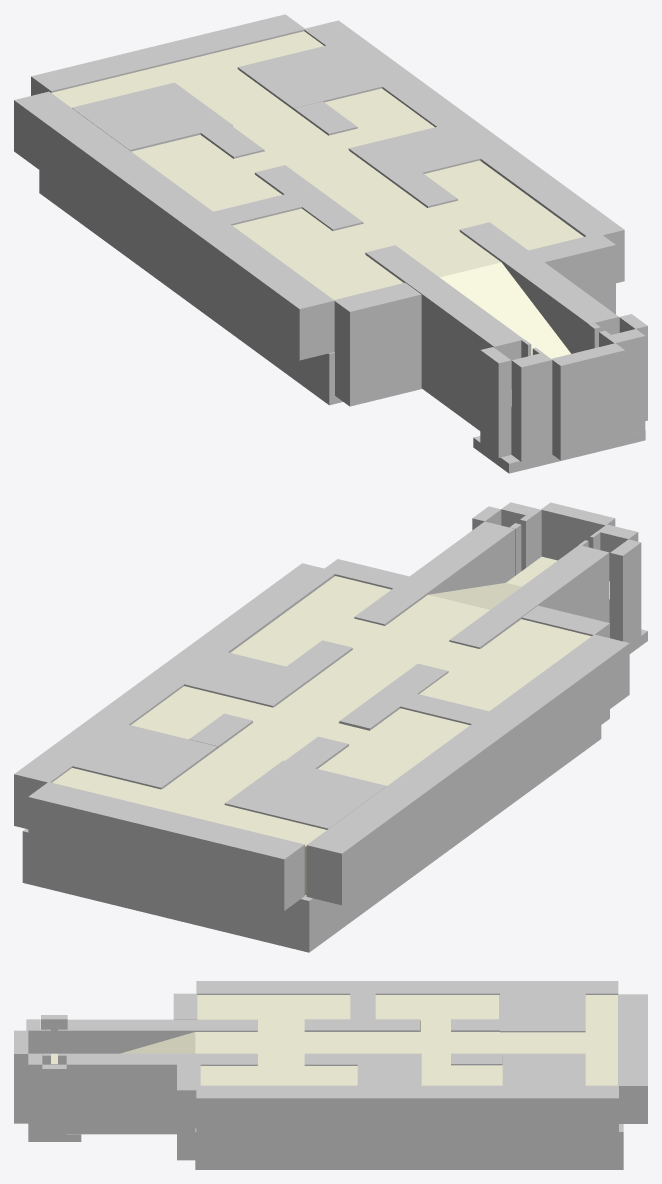
File: museum.fbx
3 renders of one model, top to bottom at view 1: azimuth 30°, elevation 25°; view 2: azimuth 150°, elevation 25°; view 3: azimuth 270°, elevation 25°, orthographic. The views are drawn at different scales.
Parts seen in each view (by area): view 1: Plane, Cube, Cube.001, Cube.012, Cube.022, Cube.024, Cube.017, Cube.011, Cube.003, Cube.002, Cube.004, Cube.016 (+11 smaller); view 2: Plane, Cube, Cube.002, Cube.024, Cube.001, Cube.012, Cube.011, Cube.003, Cube.004, Cube.009, Cube.015, Cube.017 (+9 smaller); view 3: Plane, Cube.001, Cube.024, Cube.011, Cube, Cube.012, Cube.002, Cube.003, Cube.004, Cube.009, Cube.023, Cube.014 (+11 smaller).
Boxes of the visible parts, x1,y1,x2,y2 form: Plane: (51, 31, 583, 454); Cube: (14, 91, 334, 360); Cube.001: (304, 20, 624, 283); Cube.012: (365, 245, 523, 430); Cube.022: (334, 282, 421, 406); Cube.024: (39, 170, 342, 405); Cube.017: (551, 343, 625, 460); Cube.011: (459, 222, 618, 353); Cube.003: (72, 82, 232, 151); Cube.002: (31, 14, 305, 95); Cube.004: (237, 45, 382, 109); Cube.016: (511, 353, 552, 461); Plane: (52, 556, 609, 894); Cube: (306, 634, 629, 905); Cube.002: (28, 782, 304, 910); Cube.024: (22, 716, 601, 952); Cube.001: (14, 563, 337, 829); Cube.012: (449, 545, 609, 648); Cube.011: (354, 521, 514, 625); Cube.003: (224, 760, 386, 829); Cube.004: (72, 724, 217, 789); Cube.009: (184, 652, 316, 707); Cube.015: (610, 539, 641, 645); Cube.017: (541, 502, 615, 560); Plane: (51, 995, 617, 1085); Cube.001: (196, 1085, 618, 1135); Cube.024: (195, 1124, 623, 1169); Cube.011: (66, 1053, 257, 1134); Cube: (196, 981, 618, 1018); Cube.012: (67, 1019, 257, 1053); Cube.002: (618, 994, 647, 1123); Cube.003: (500, 993, 585, 1032); Cube.004: (502, 1053, 585, 1085); Cube.009: (357, 1053, 421, 1085); Cube.023: (177, 1064, 200, 1160); Cube.014: (42, 1064, 66, 1138).
Bounding box in the file's own units: 1850 × 568 × 4229.
